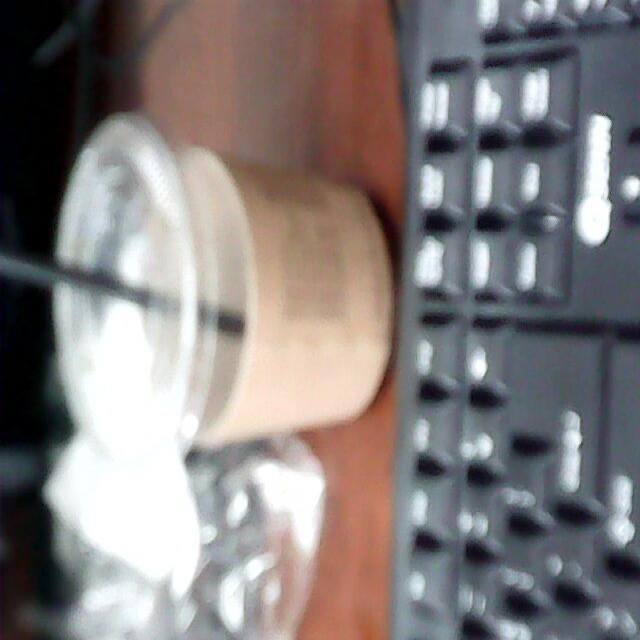cup: (58, 112, 390, 470)
